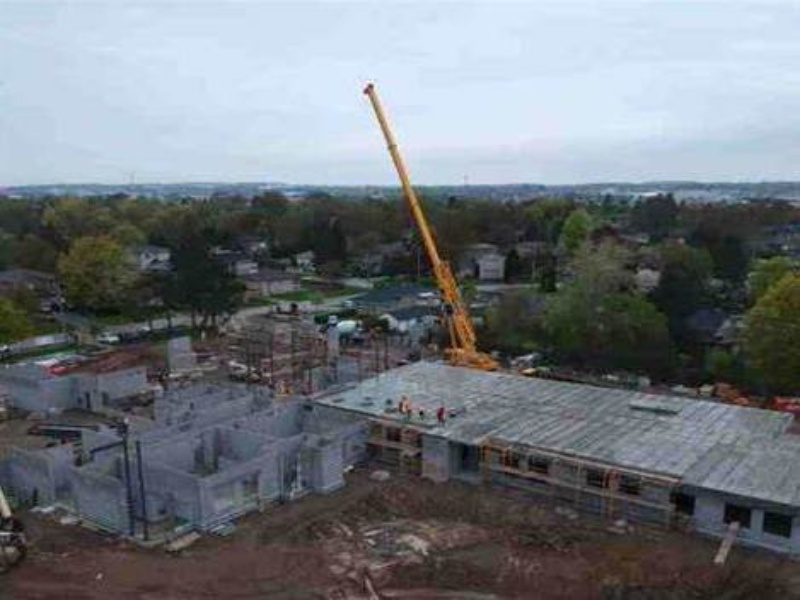crane: (358, 80, 499, 377)
